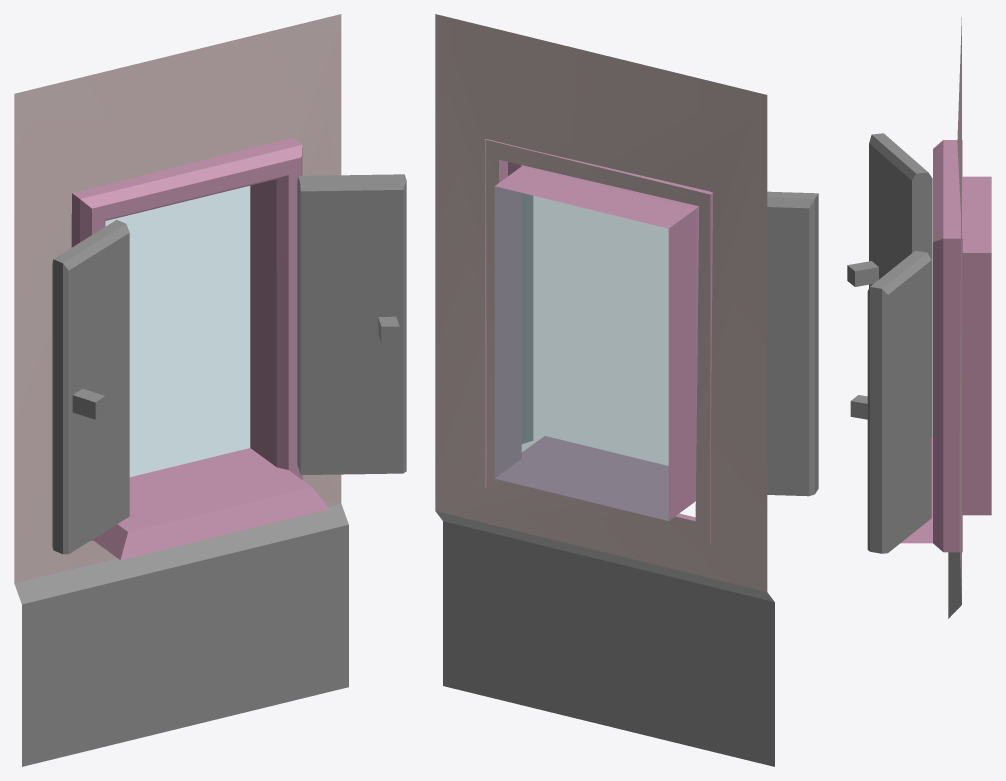
Rendered from Wand_EG_Fenster.FBX.
3 renders of one model, left to right at view 1: azimuth 30°, elevation 25°; view 2: azimuth 150°, elevation 25°; view 3: azimuth 270°, elevation 25°, orthographic. The views are drawn at different scales.
Visible parts, largest first — view 1: Wand_EG_Fenster; view 2: Wand_EG_Fenster; view 3: Wand_EG_Fenster.
Part boxes in pixels (left/top/right/bottom): Wand_EG_Fenster: left=14, top=14, right=406, bottom=766; Wand_EG_Fenster: left=435, top=14, right=818, bottom=766; Wand_EG_Fenster: left=847, top=17, right=991, bottom=618.
Size of the model in its own units: 42.19 by 76.8 by 16.54.
